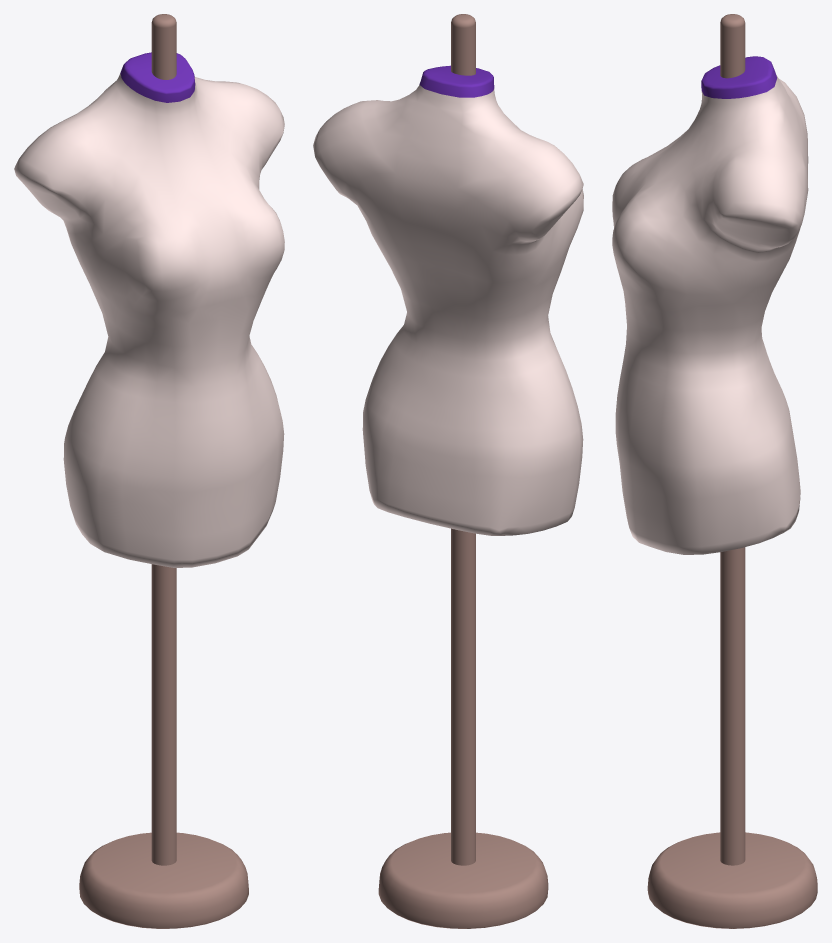
Rendered from Public_19_Mannequin_1.glb.
The picture shows the model from 3 angles, left to right: view 1: azimuth 30°, elevation 25°; view 2: azimuth 150°, elevation 25°; view 3: azimuth 270°, elevation 25°; orthographic projection.
Parts seen in each view (by area): view 1: Public_19_Mannequin_1; view 2: Public_19_Mannequin_1; view 3: Public_19_Mannequin_1.
Part boxes in pixels (x1,y1,x2,y2): Public_19_Mannequin_1: [14, 14, 284, 928]; Public_19_Mannequin_1: [313, 14, 583, 928]; Public_19_Mannequin_1: [612, 14, 817, 928].
Size of the model in its own units: 0.9526 by 3.11 by 0.6602.
1 material, 1 textured.
